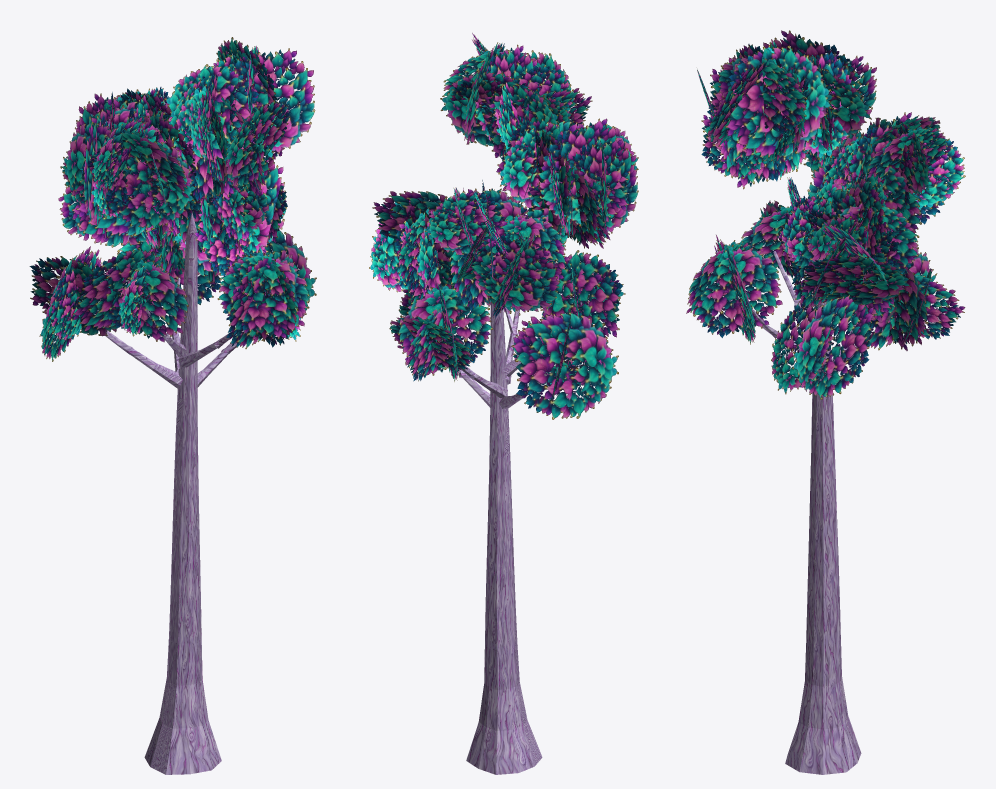
The model's file is LumenbarkTree.glb.
3 views of the same model, side by side, from view 1: azimuth 30°, elevation 25°; view 2: azimuth 150°, elevation 25°; view 3: azimuth 270°, elevation 25° (orthographic). The views are drawn at different scales.
Parts seen in each view (by area): view 1: tree_lumenbark; view 2: tree_lumenbark; view 3: tree_lumenbark.
Part boxes in pixels (x1,y1,x2,y2): tree_lumenbark: [29, 37, 316, 774]; tree_lumenbark: [369, 33, 638, 774]; tree_lumenbark: [686, 30, 965, 774].
Bounding box in the file's own units: 5.64 × 14.72 × 5.56.
Materials: 2 (2 with a texture image).
